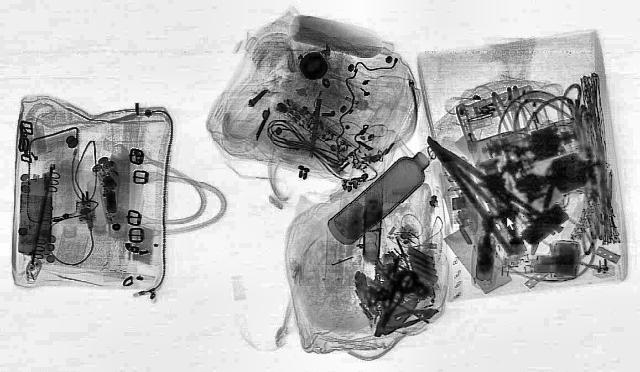Pliers: (386, 304, 444, 330)
